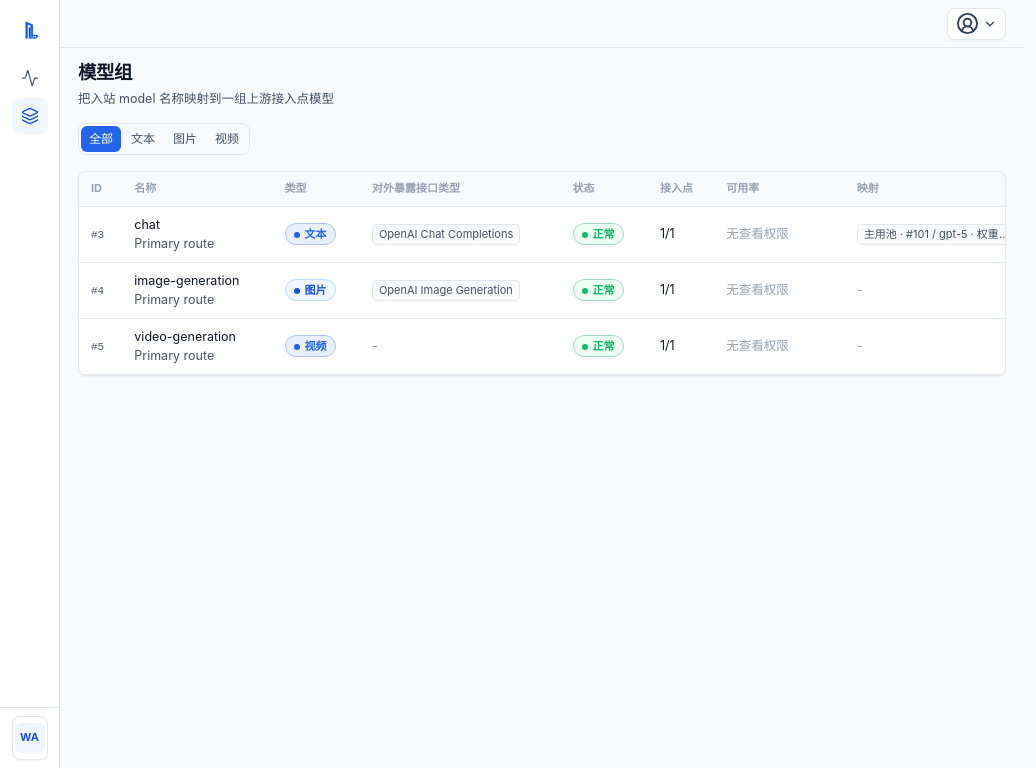
it: App endpoint permissions and flows › filters model groups by text, image, video, or all kinds
Expected: the button "chat" is shown, [134,216,261,233]
Expected: the button "image-generation" is shown, [134,272,261,289]
What coordinates should you click on to do the following:
click the button "文本"
I would click on:
 (143, 139)
Its box is [123,126,163,152].
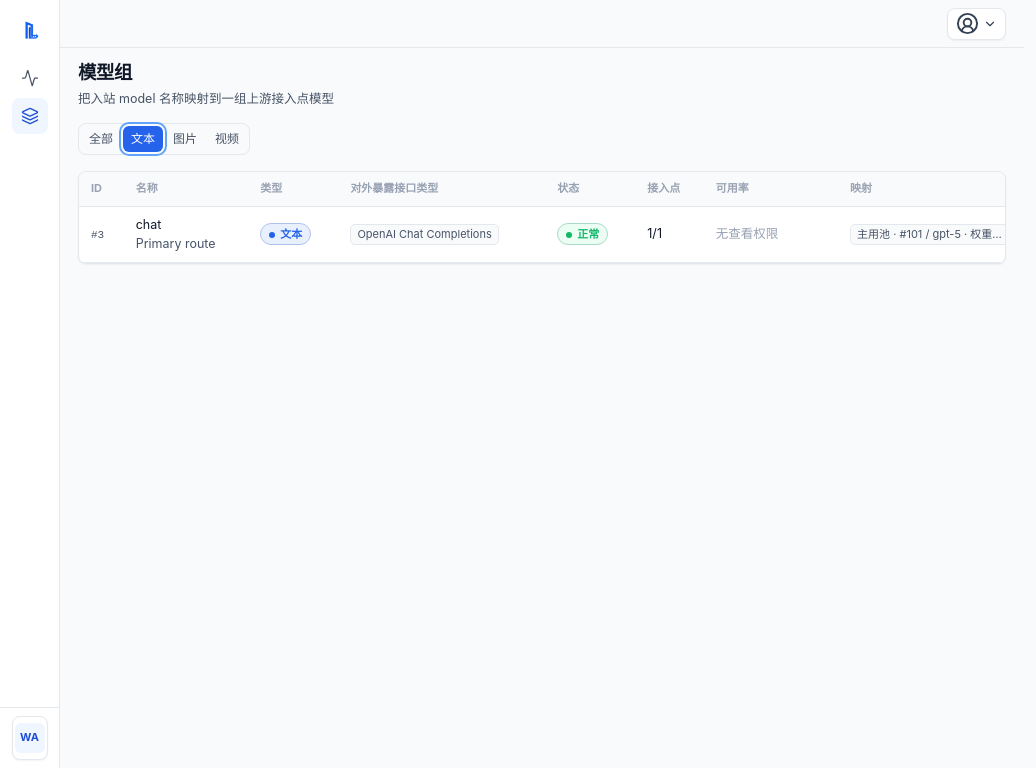
Expected: the button "chat" is shown, [136,216,236,233]
Result: the button "image-generation" is gone
Result: the button "video-generation" is gone
What coordinates should you click on to do the following:
click the button "图片"
I would click on:
 (185, 139)
Its box is [165,126,205,152].
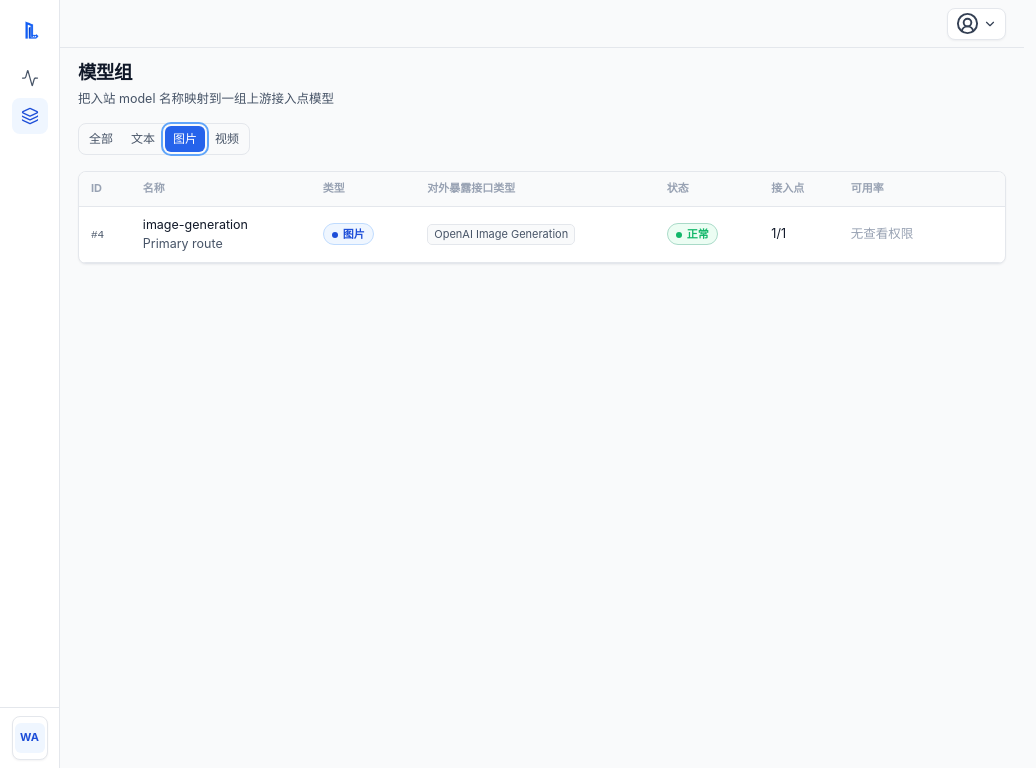
Result: the button "image-generation" is shown at [143,216,299,233]
Result: the button "chat" is gone
What coordinates should you click on to do the following:
click the button "视频"
I would click on:
 (227, 139)
Its box is [207,126,247,152].
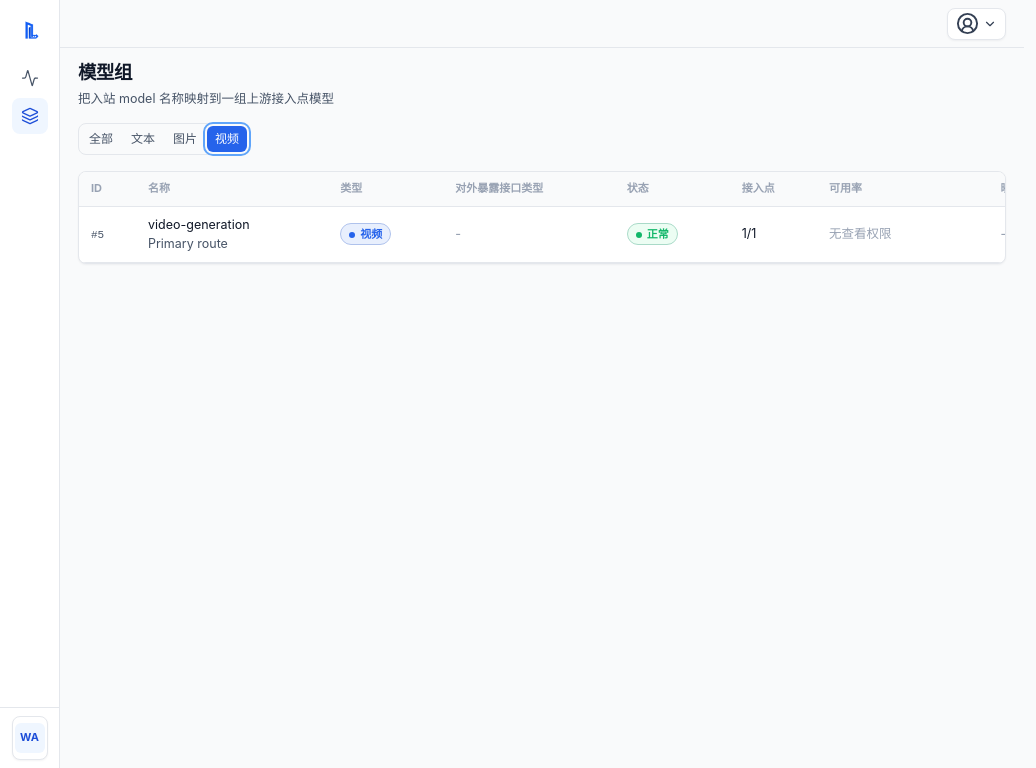
Result: the button "video-generation" is shown at [148,216,316,233]
Result: the button "image-generation" is gone
What coordinates should you click on to do the following:
click the button "全部"
I would click on:
 (101, 139)
Its box is [81,126,121,152].
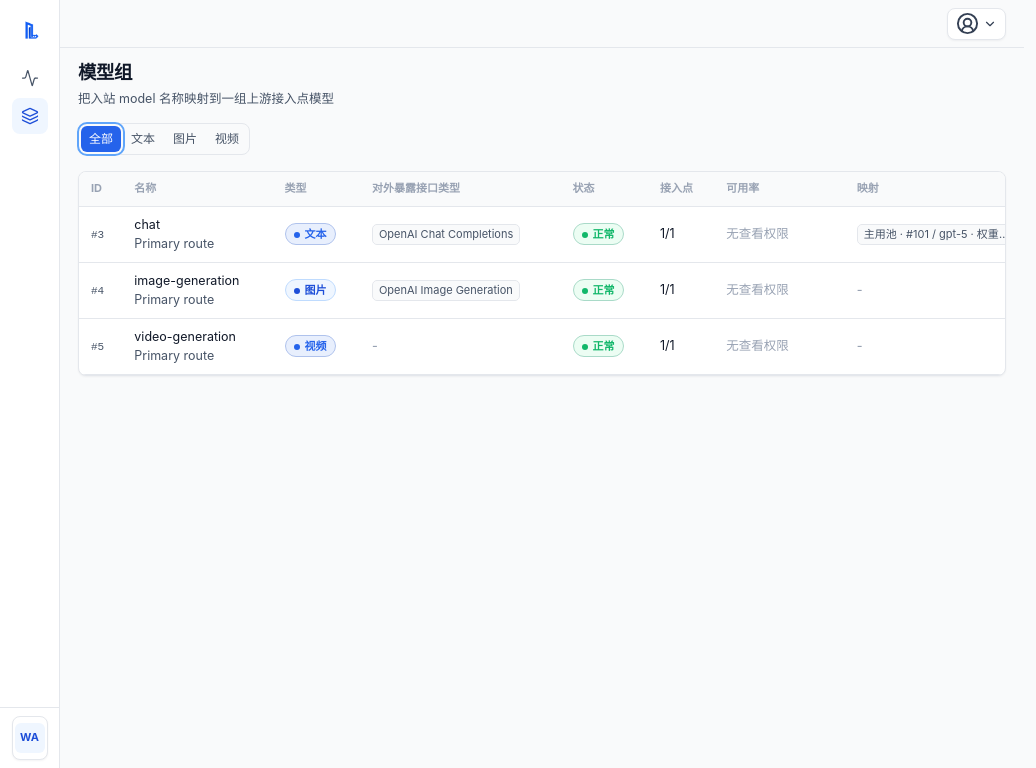
Result: the button "video-generation" is shown at [134,328,261,345]
Result: the button "chat" is shown at [134,216,261,233]
Result: the button "image-generation" is shown at [134,272,261,289]
